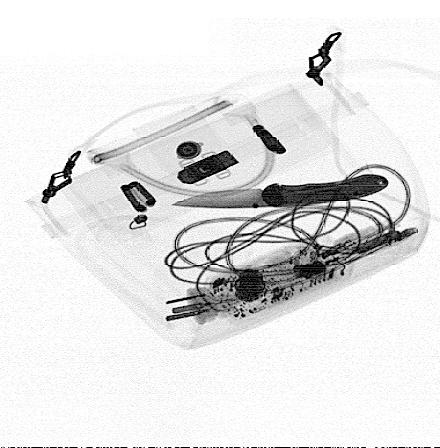Knife: (170, 173, 391, 210)
